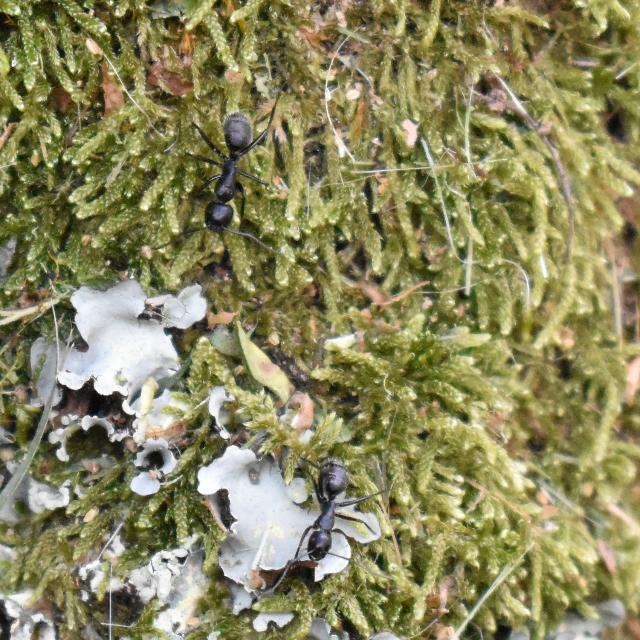Camponotus: (163, 95, 283, 251), (280, 448, 378, 584)
